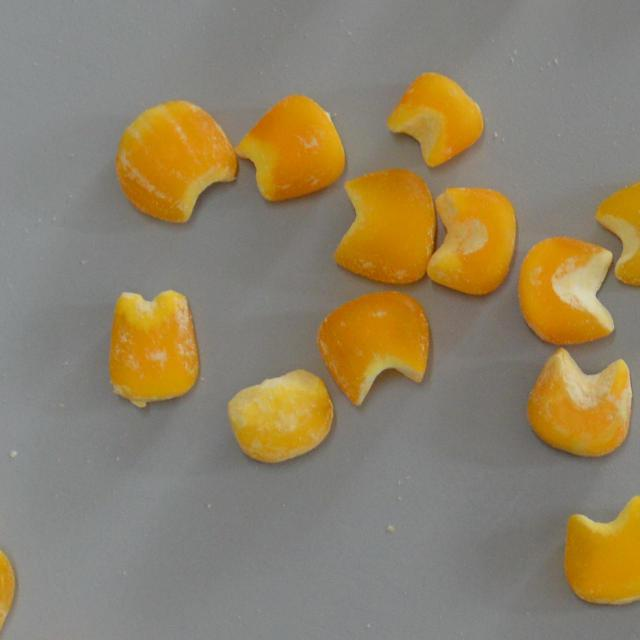pelicula: (110, 94, 240, 227), (314, 288, 432, 409), (521, 340, 634, 463), (330, 166, 439, 287), (232, 92, 346, 205), (106, 286, 204, 413), (515, 232, 616, 348), (224, 366, 334, 466), (424, 183, 520, 296), (556, 488, 640, 614), (384, 70, 486, 168), (593, 172, 640, 290), (0, 534, 19, 640)
